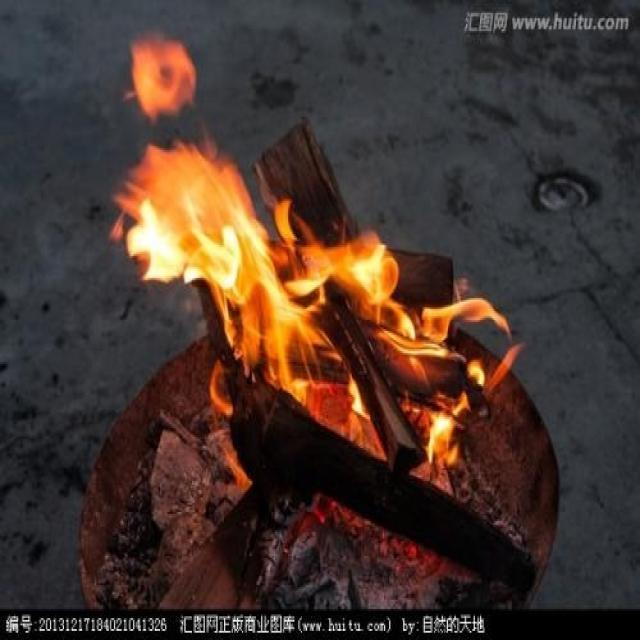Fire: (106, 137, 524, 534), (128, 33, 198, 121)
